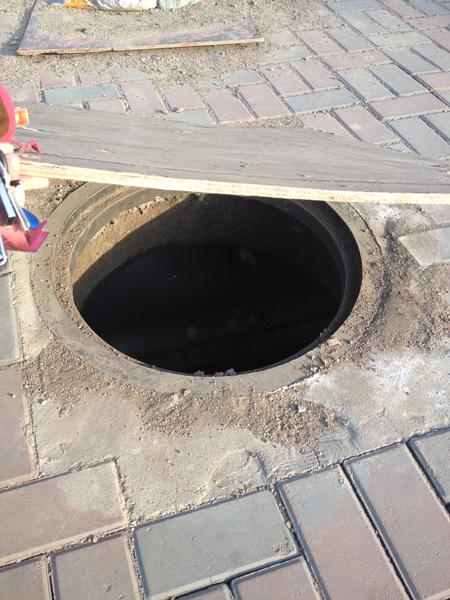lose: (29, 151, 404, 395)
